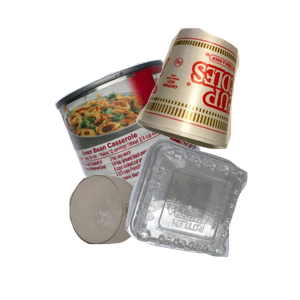glass: (67, 172, 229, 300)
metal: (52, 57, 260, 237)
plastic: (123, 136, 300, 300)
trash: (133, 25, 300, 167)
